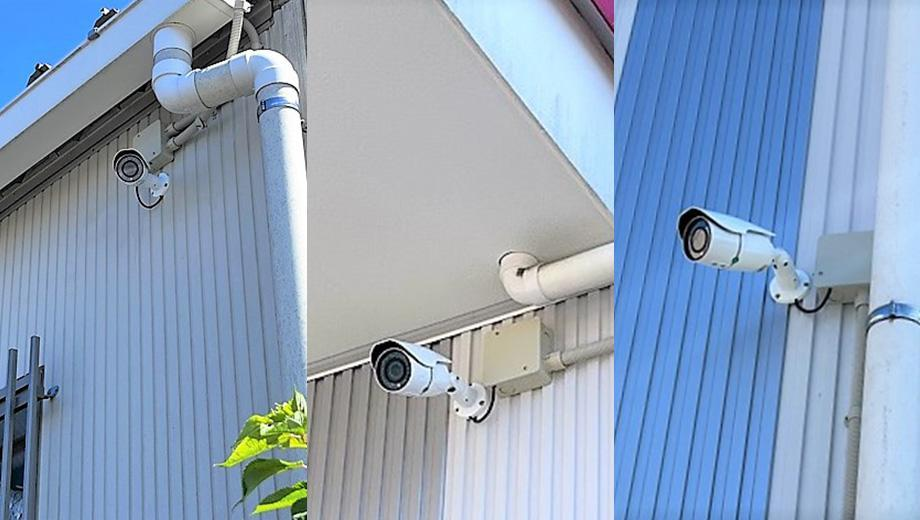tutu: (672, 203, 788, 280), (367, 323, 457, 395), (105, 132, 159, 202)
